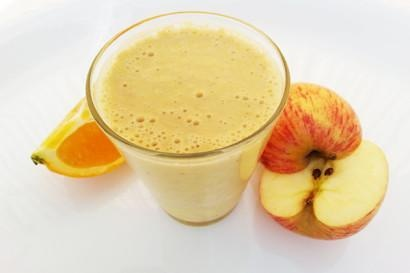background: (65, 12, 250, 102), (19, 36, 82, 76)
